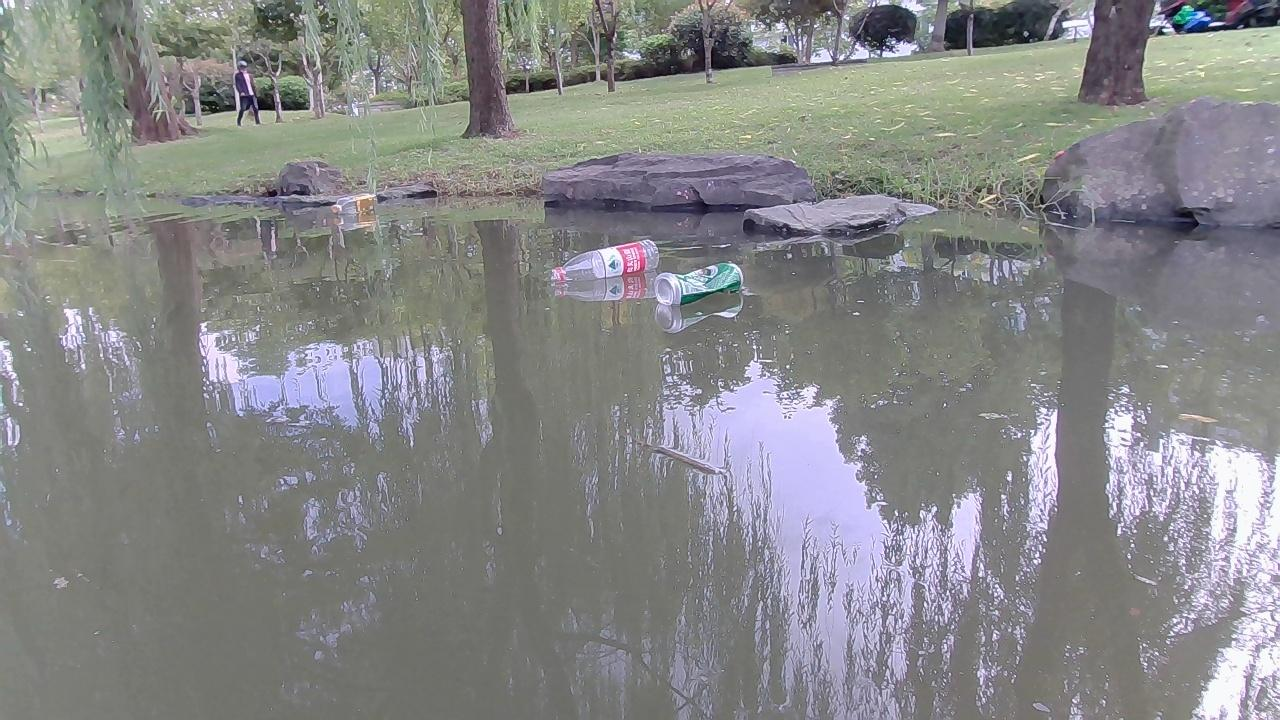bottle: (551, 237, 656, 283), (654, 257, 742, 307), (328, 191, 377, 217)
